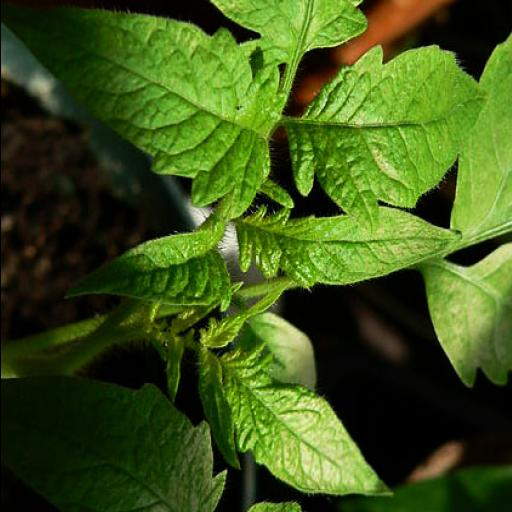Healthy: (0, 0, 287, 223), (288, 44, 490, 232), (200, 342, 396, 498), (234, 204, 460, 292), (60, 224, 232, 305)
